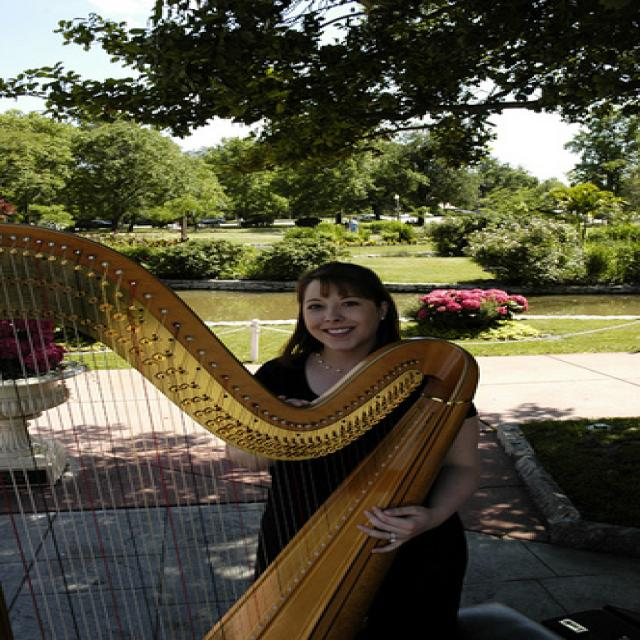harp: (0, 221, 488, 640)
